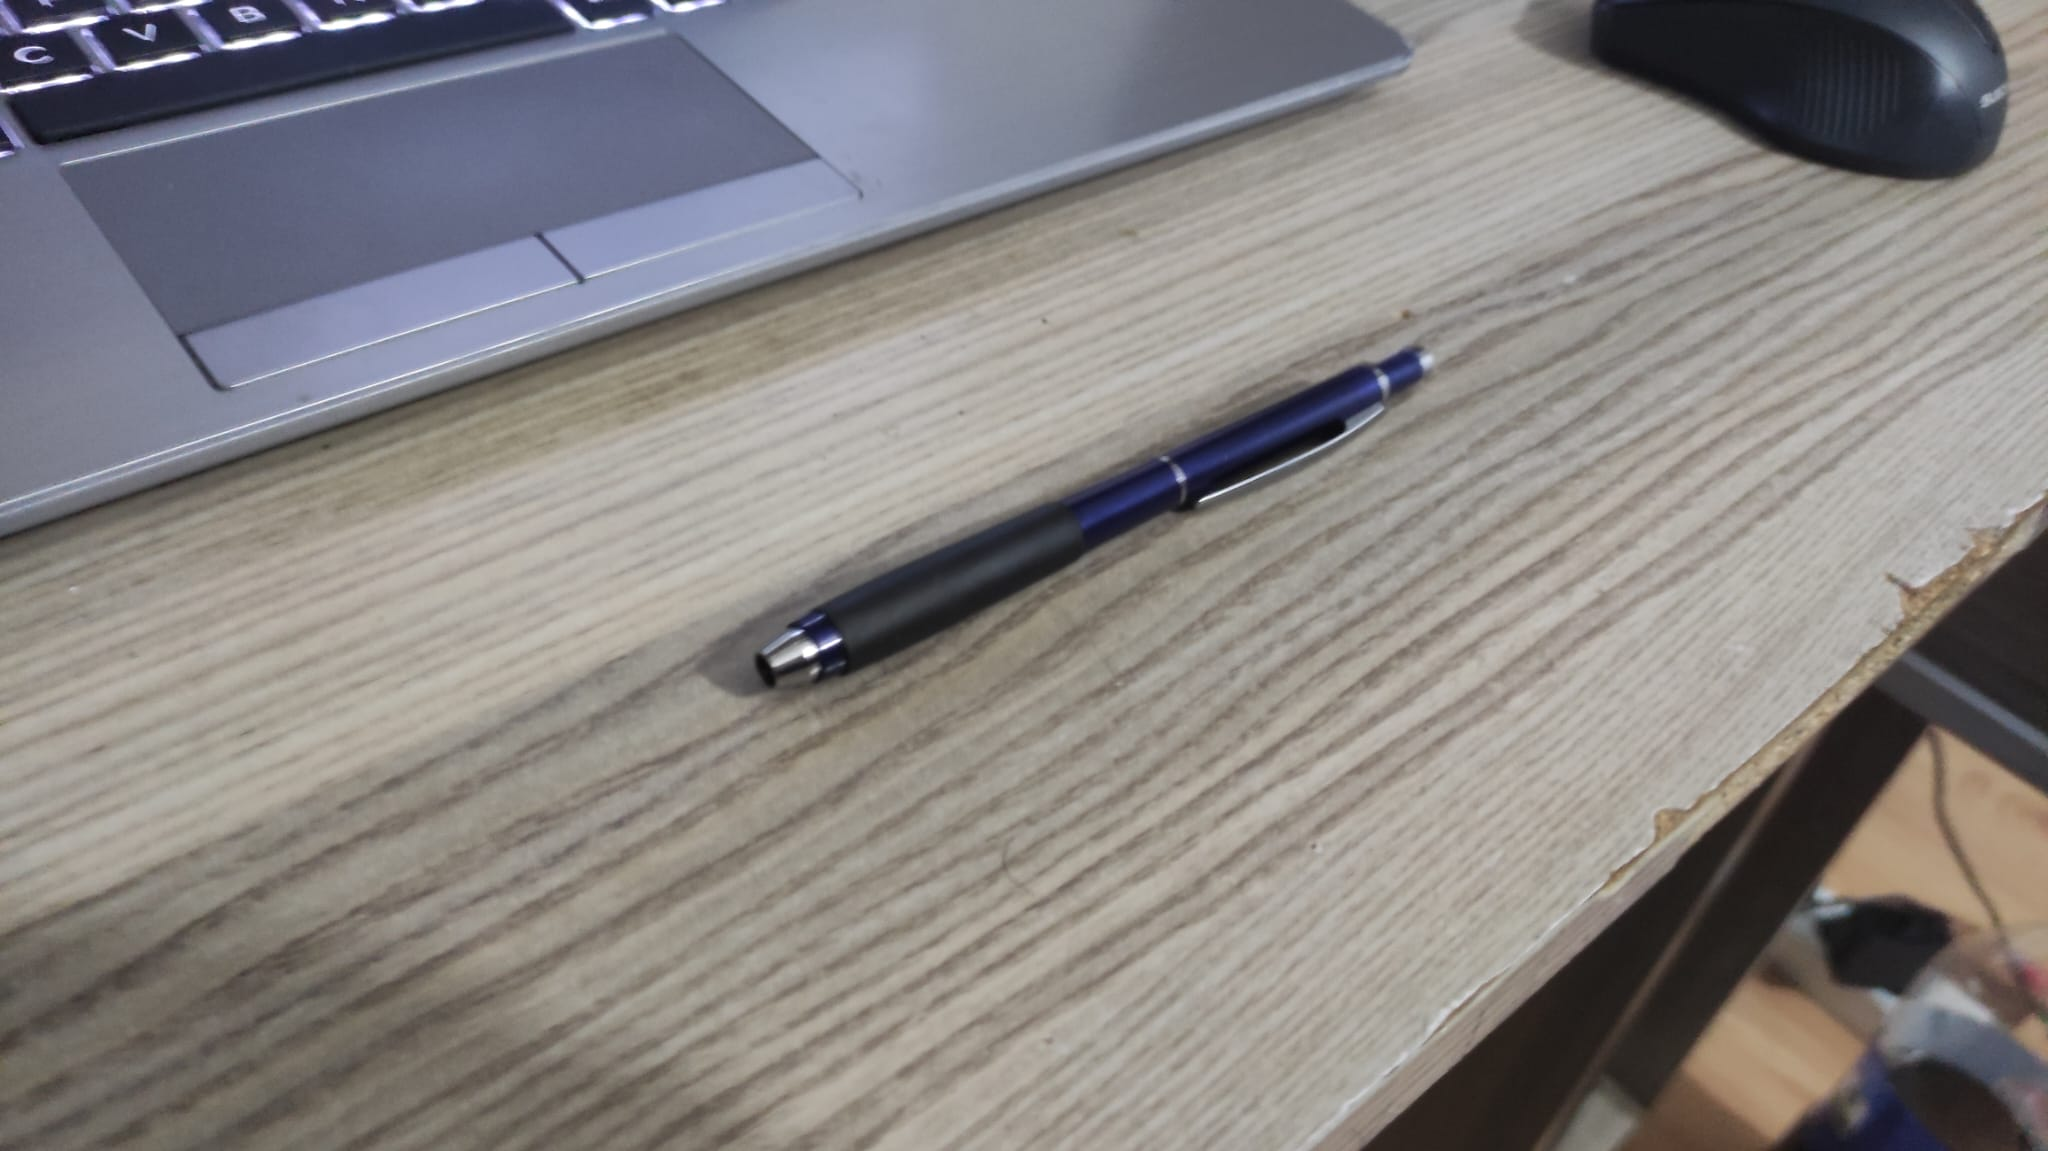kalem: (751, 341, 1436, 695)
